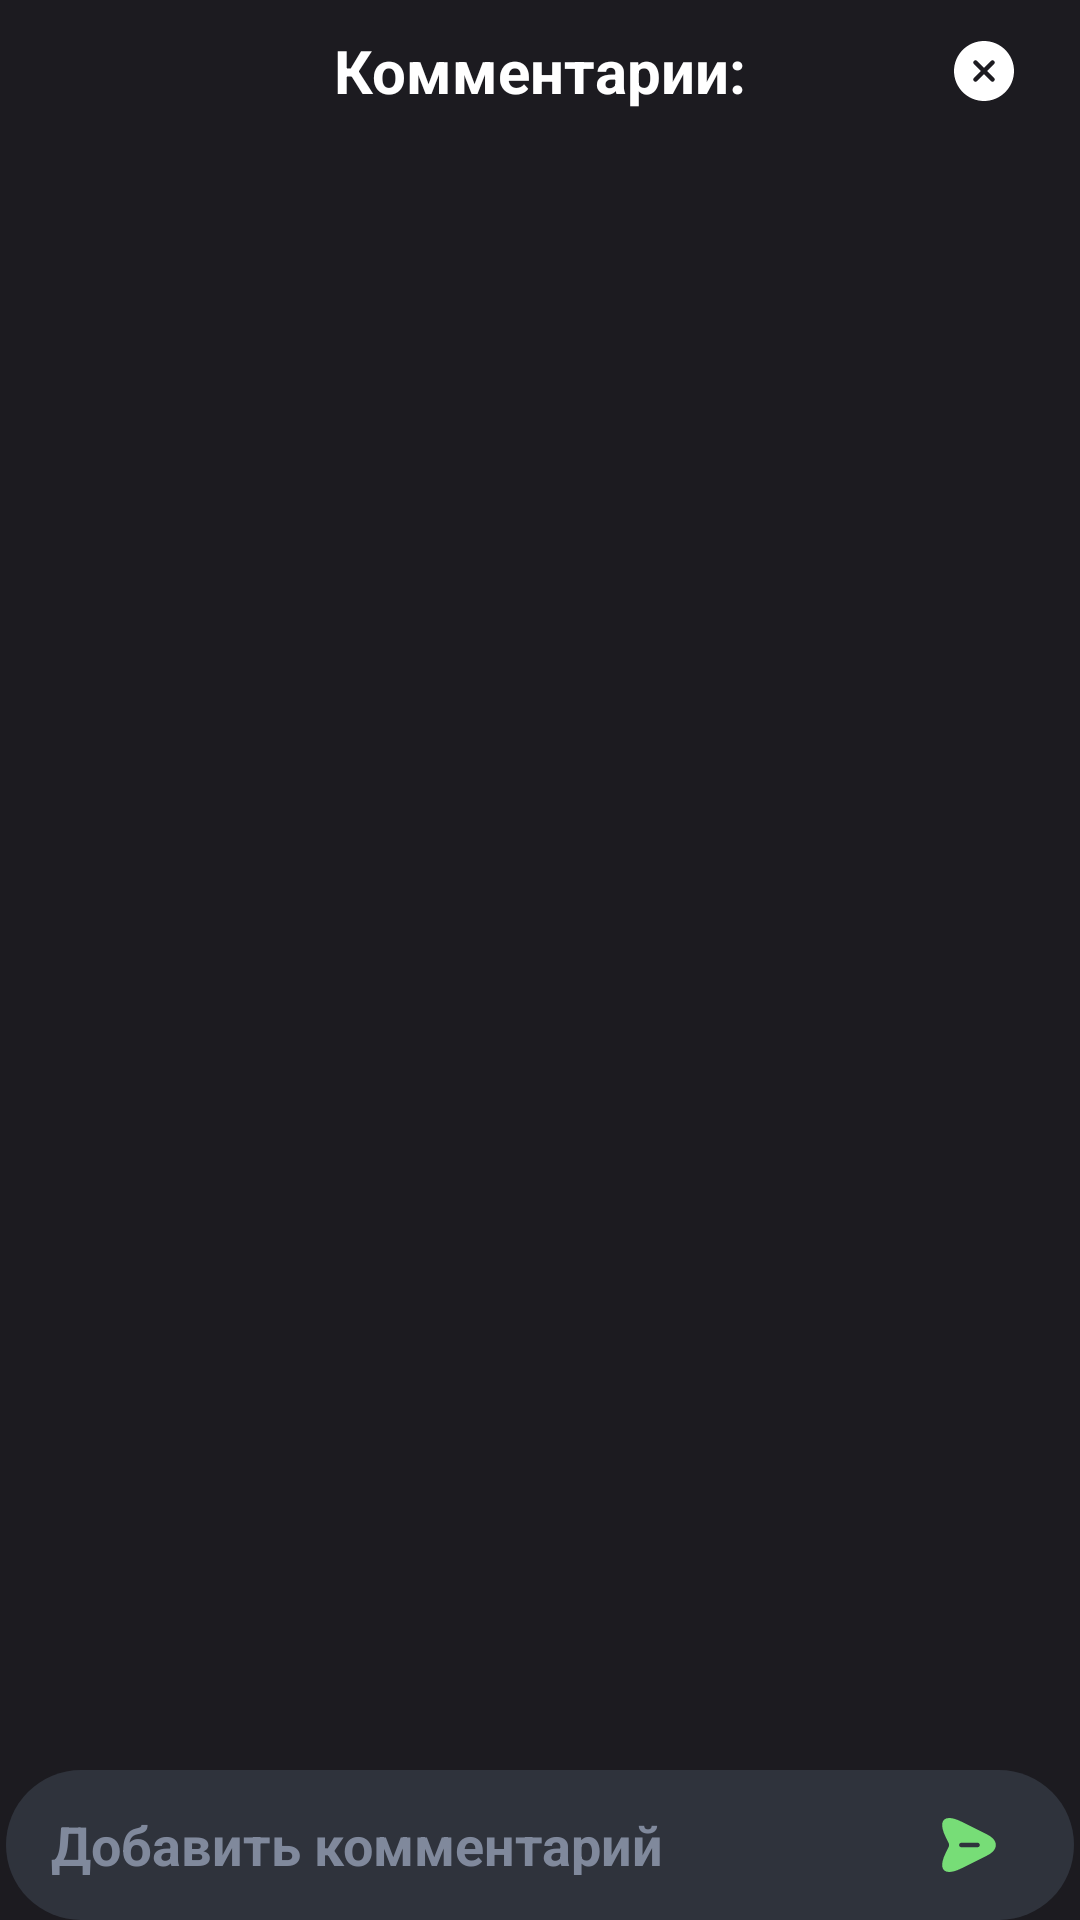

Locate icon controls on the screen. Image size 1080*1920, boxes as [left=x1, top=y1, right=x2, bottom=y2].
closecircle: [left=954, top=41, right=1014, bottom=101]
send: [left=942, top=1818, right=996, bottom=1872]
